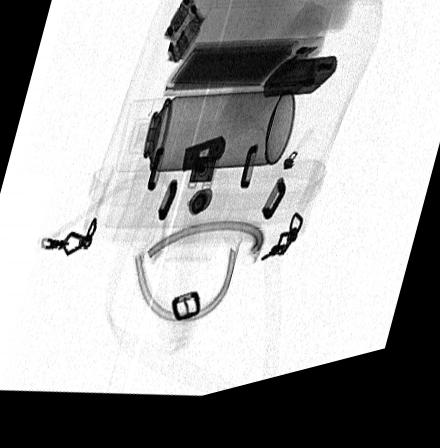Lighter: (261, 73, 336, 112)
Powerbank: (163, 52, 324, 102)
Sprayer: (114, 103, 294, 180)
